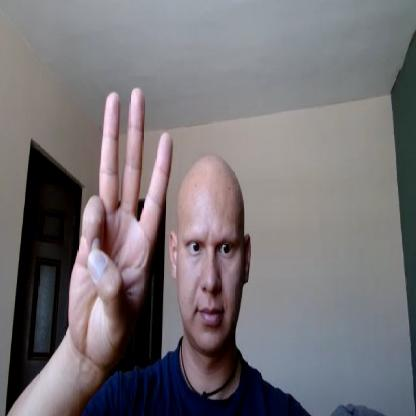W: (68, 84, 176, 353)
